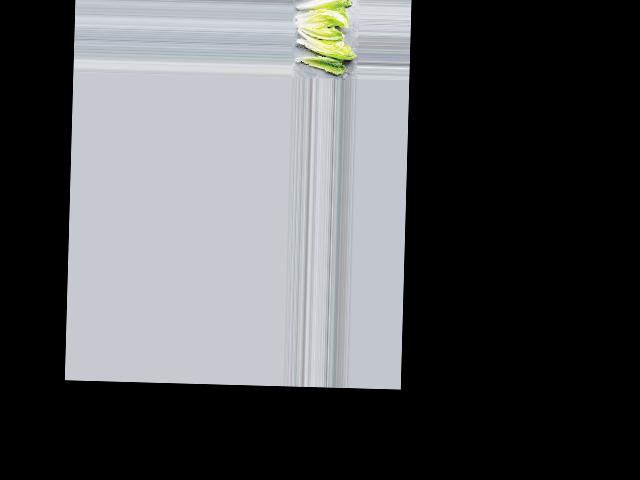lettuce: (292, 54, 346, 73)
